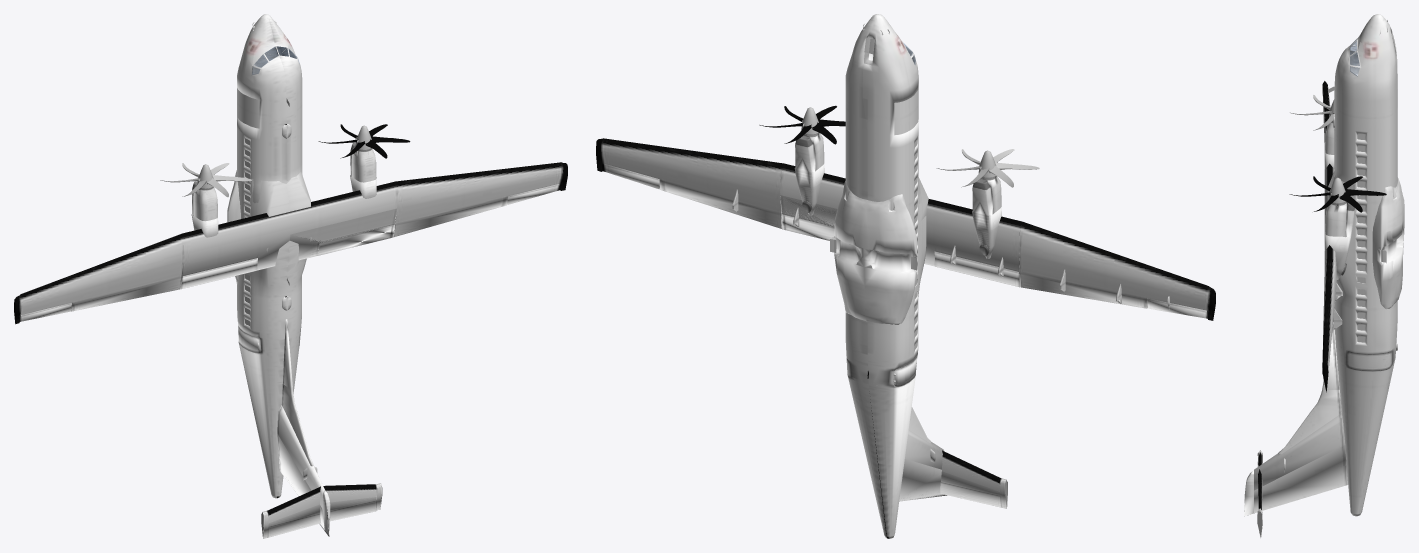
The model's file is atr42.glb.
3 views of the same model, side by side, from view 1: azimuth 30°, elevation 25°; view 2: azimuth 150°, elevation 25°; view 3: azimuth 270°, elevation 25° (orthographic). The views are drawn at different scales.
Visible parts, largest first — view 1: fuselage_005, Wing_001, W05_207, W05_206, wavefront, Elevator, VStab, Flap4, Flap1, Flap2, Flap3, Rudder (+8 smaller); view 2: fuselage_005, fuselage, W05_206, W05_207, Wing_001, Flap1, Flap4, Nacelle, Nacelle_001, Rudder, Flap2, Elevator (+6 smaller); view 3: fuselage_005, fuselage, Rudder, VStab, Misc_028, W05_207, NoWindows, Nacelle_001, Prop2, Misc_023, Misc_014, Wing_001 (+4 smaller).
Boxes of the visible parts, bbox=[...] form: fuselage_005: bbox=[237, 14, 311, 498]; Wing_001: bbox=[180, 181, 397, 289]; W05_207: bbox=[393, 162, 562, 236]; W05_206: bbox=[20, 233, 184, 316]; wavefront: bbox=[251, 172, 311, 216]; Elevator: bbox=[268, 497, 376, 537]; VStab: bbox=[277, 405, 324, 528]; Flap4: bbox=[394, 197, 506, 236]; Flap1: bbox=[72, 277, 180, 311]; Flap2: bbox=[181, 258, 257, 289]; Flap3: bbox=[318, 224, 394, 255]; Rudder: bbox=[277, 434, 324, 530]; fuselage_005: bbox=[845, 14, 926, 538]; fuselage: bbox=[834, 181, 917, 324]; W05_206: bbox=[1019, 222, 1208, 318]; W05_207: bbox=[601, 138, 783, 228]; Wing_001: bbox=[780, 163, 1022, 287]; Flap1: bbox=[1020, 272, 1146, 308]; Flap4: bbox=[661, 180, 781, 228]; Nacelle: bbox=[972, 178, 1001, 258]; Nacelle_001: bbox=[794, 135, 824, 215]; Rudder: bbox=[899, 459, 943, 501]; Flap2: bbox=[934, 251, 1020, 287]; Elevator: bbox=[940, 471, 1001, 507]; fuselage_005: bbox=[1334, 14, 1397, 516]; fuselage: bbox=[1372, 177, 1404, 308]; Rudder: bbox=[1254, 445, 1347, 513]; VStab: bbox=[1254, 413, 1345, 490]; Misc_028: bbox=[1278, 389, 1341, 454]; W05_207: bbox=[1322, 255, 1336, 372]; NoWindows: bbox=[1357, 134, 1365, 342]; Nacelle_001: bbox=[1324, 202, 1354, 279]; Prop2: bbox=[1289, 176, 1386, 212]; Misc_023: bbox=[1325, 201, 1346, 236]; Misc_014: bbox=[1322, 324, 1339, 389]; Wing_001: bbox=[1324, 153, 1336, 276].
Bounding box in the file's own units: 27.69 × 22.77 × 6.59.
4 materials, 3 textured.
